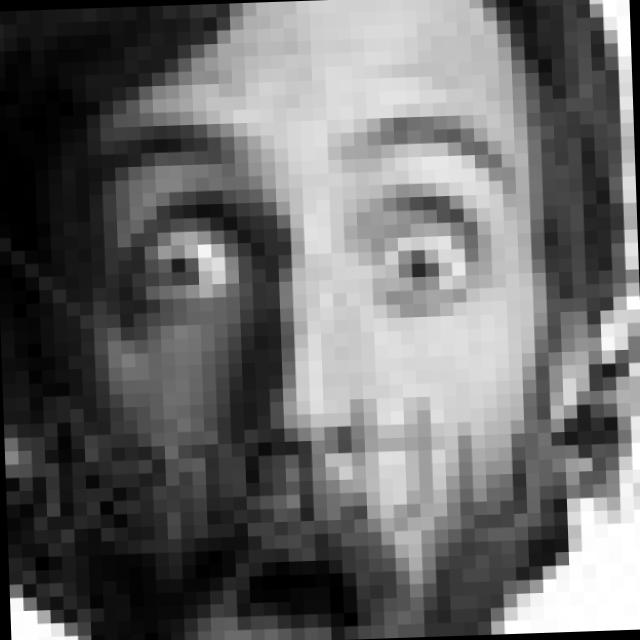surprise: (91, 109, 535, 640)
